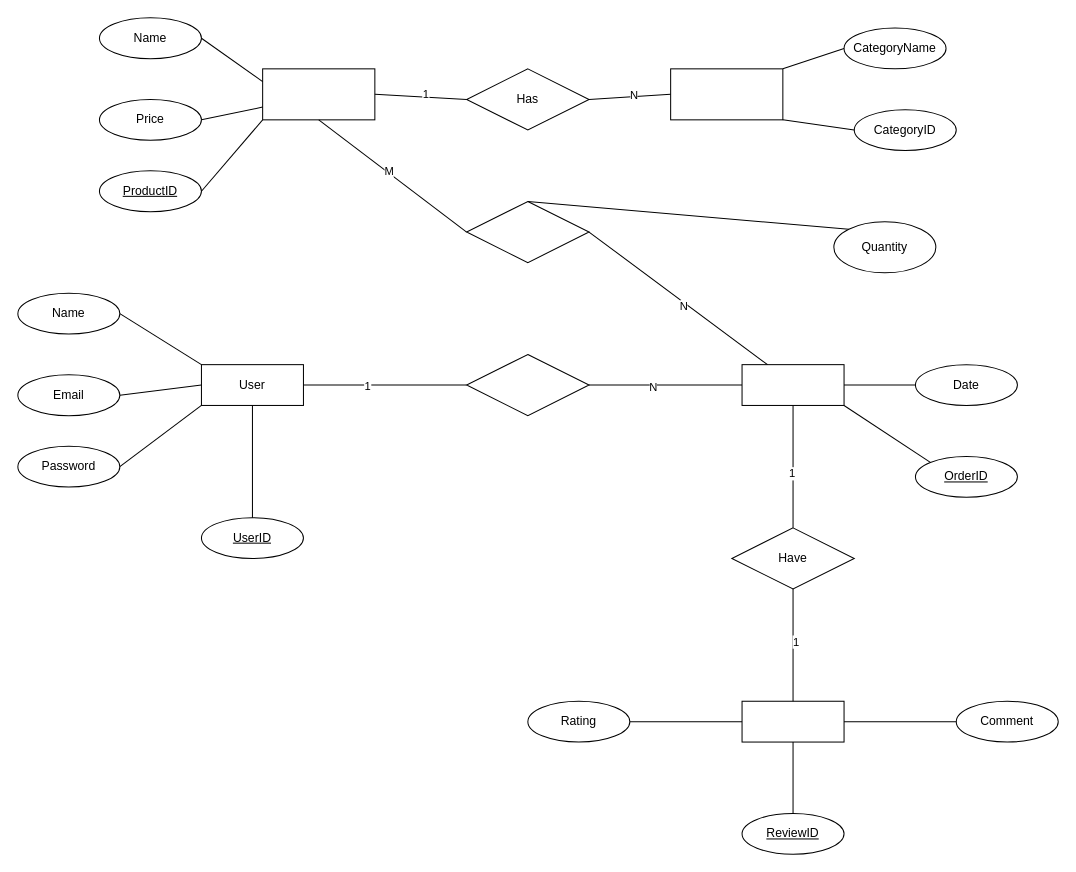
This 1076x872 diagram has some shape labels left out. Each missing label, with the centre of its shape:
"Category" belongs at [726,94].
"Contain" belongs at [527,231].
"Order" belongs at [792,384].
"Place" belongs at [527,384].
"Product" belongs at [318,94].
"Review" belongs at [792,721].
